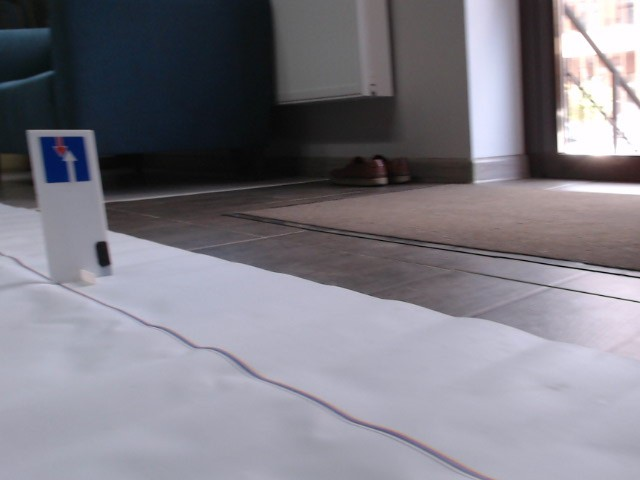priority_movement: (38, 135, 91, 183)
